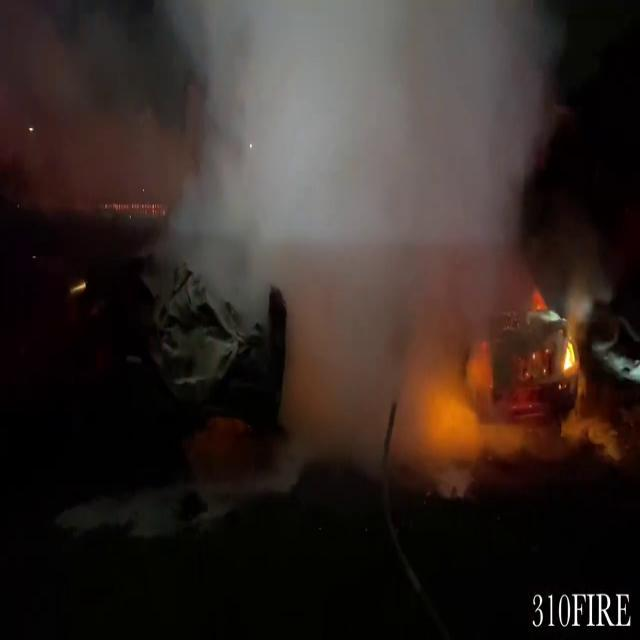Fire: (559, 334, 579, 379)
Smoke: (2, 0, 578, 436)
